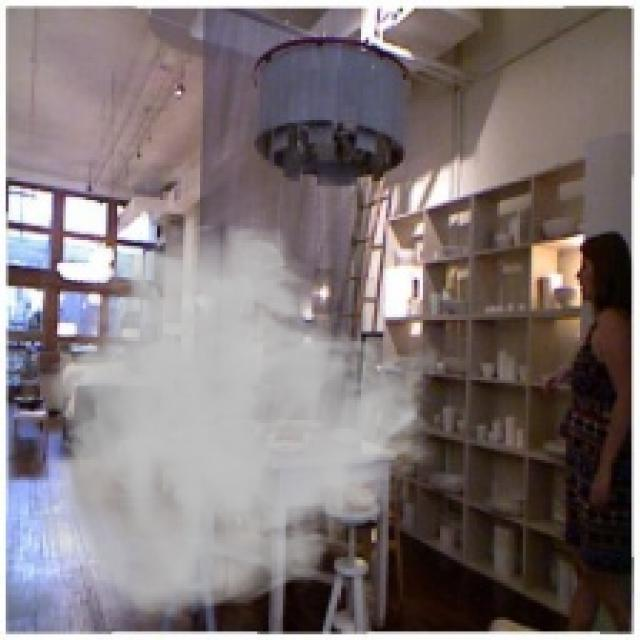Smoke: (29, 220, 448, 626)
